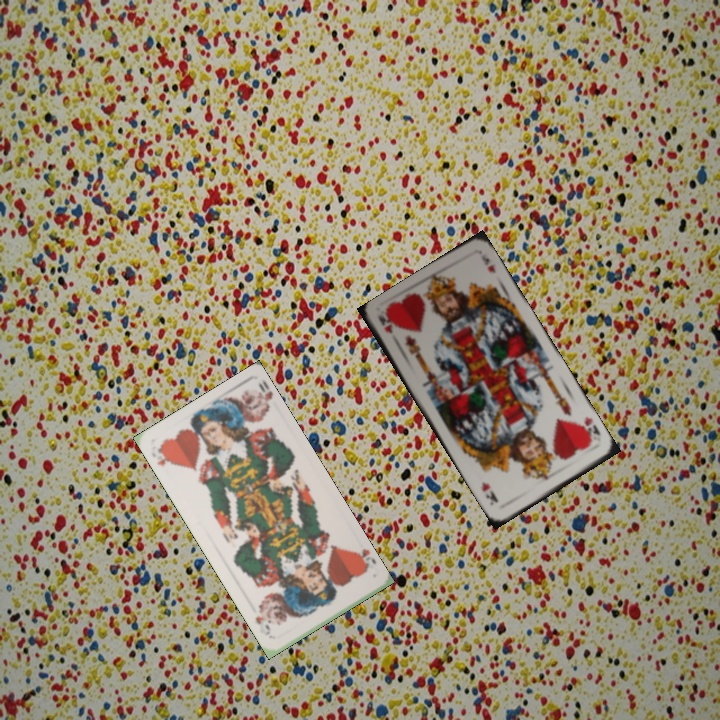HK: (574, 412, 603, 445), (374, 310, 395, 336)
HO: (348, 544, 378, 575), (153, 441, 175, 468)
